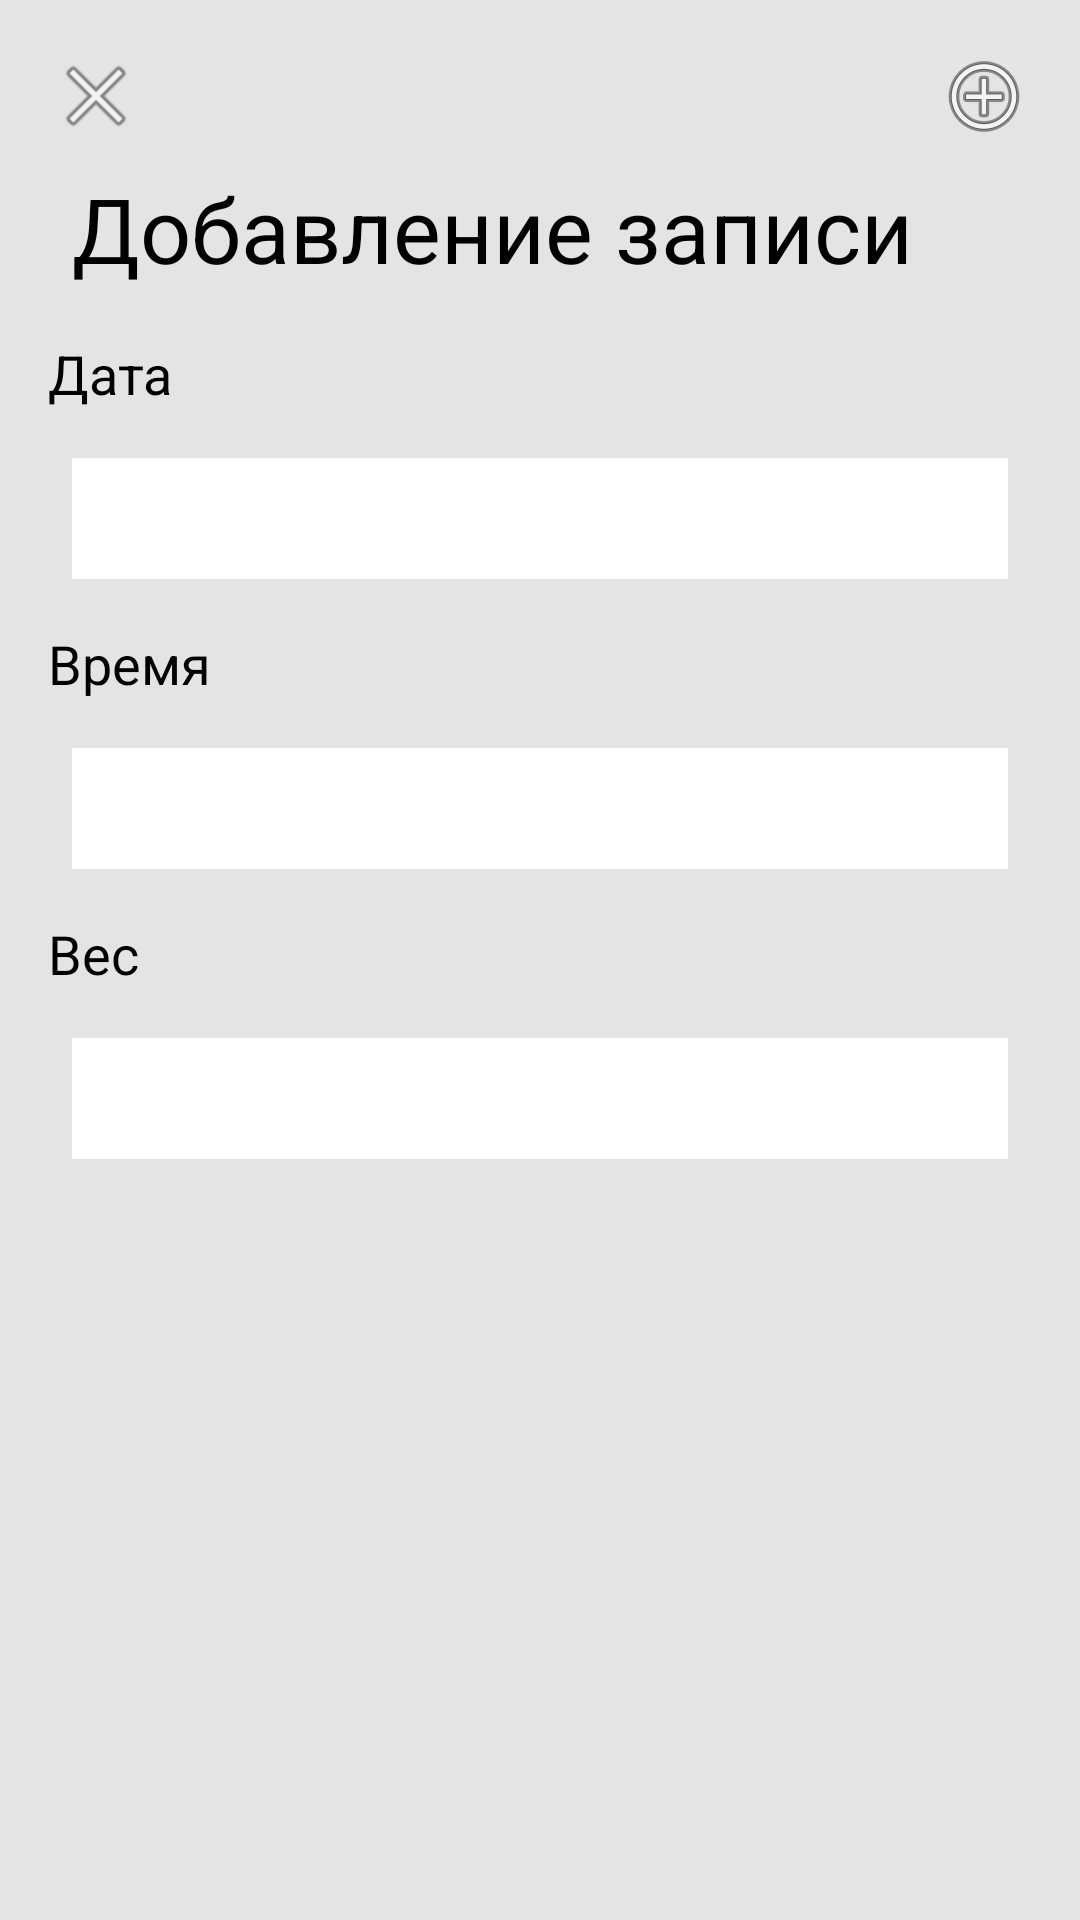

Locate icon controls on the screen. Image size 1080px×1920px, boxes as (x1, y1, x2, y2).
Отмена: (66, 66, 126, 126)
